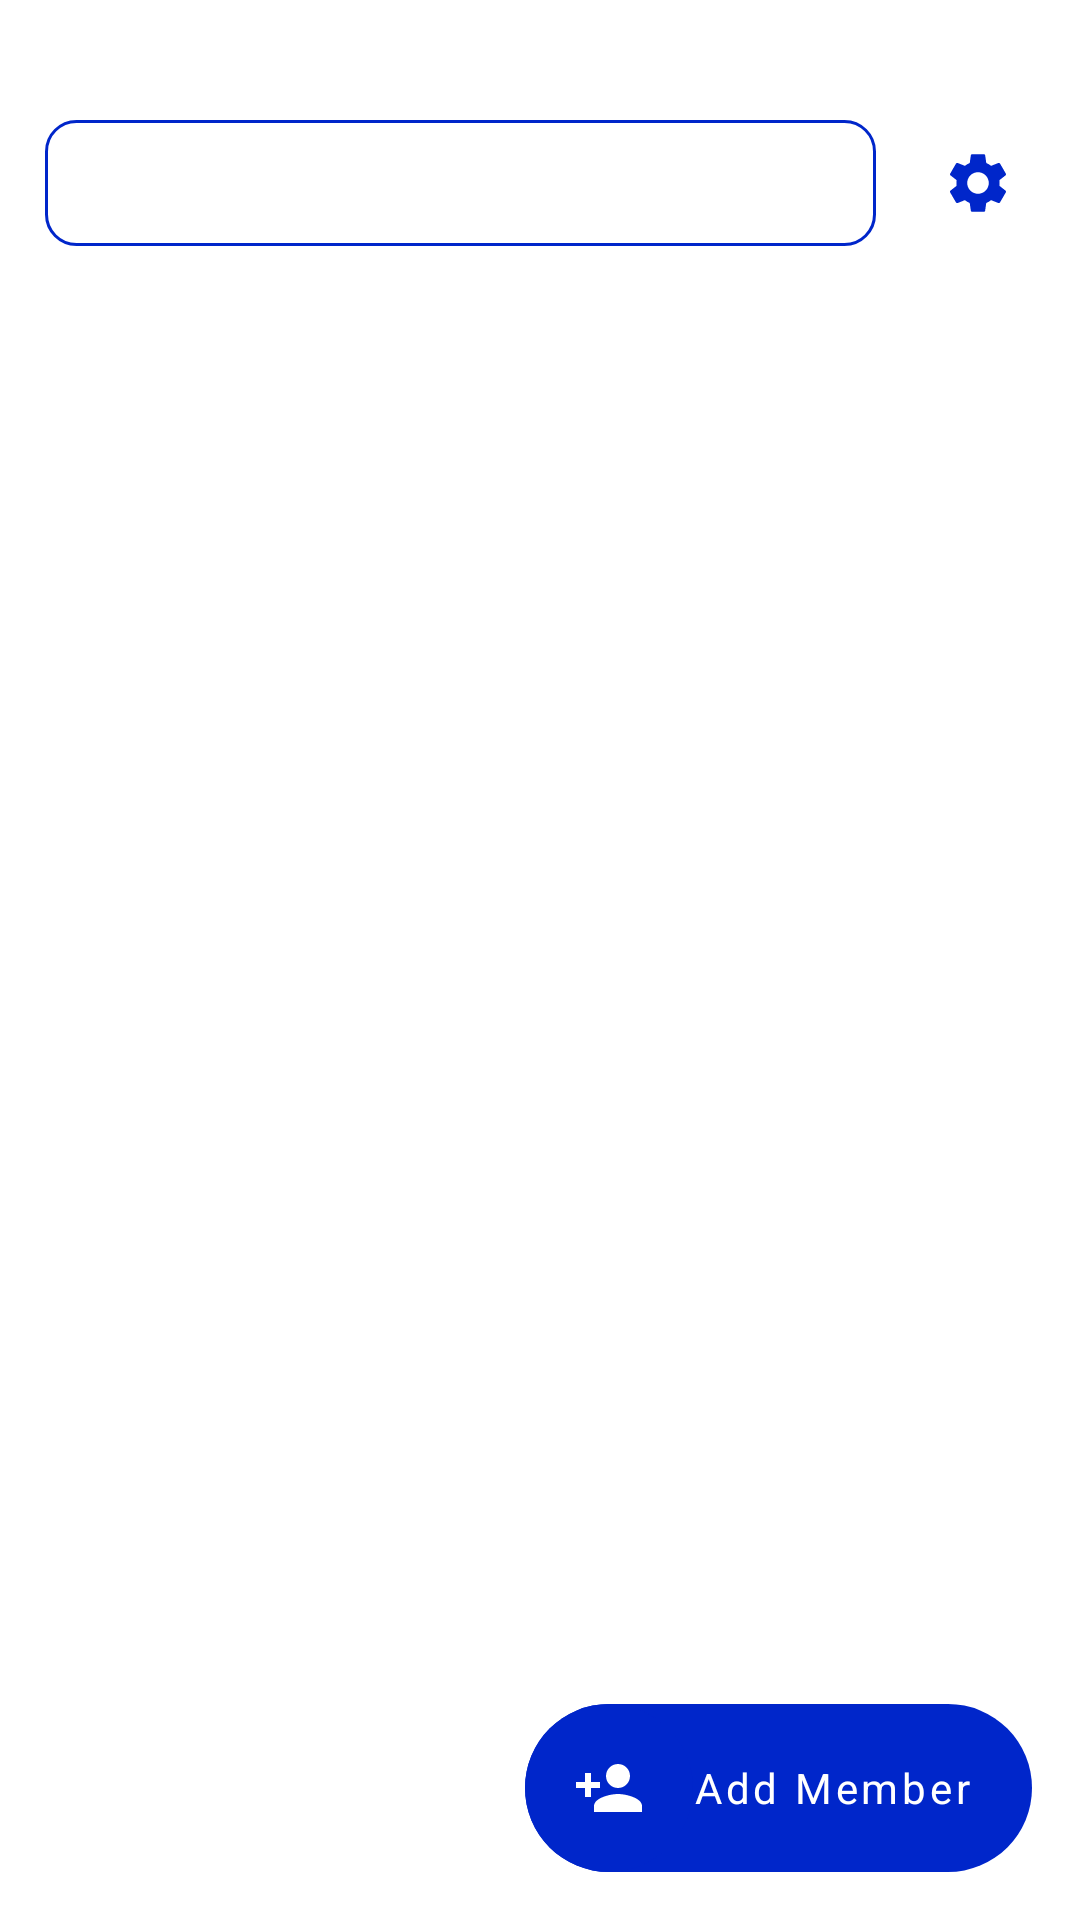

Where to tap for icons on this 1080*1920 app screen, as point (x, y):
Create new member fab: point (609, 1788)
Settings icon: point (978, 183)
